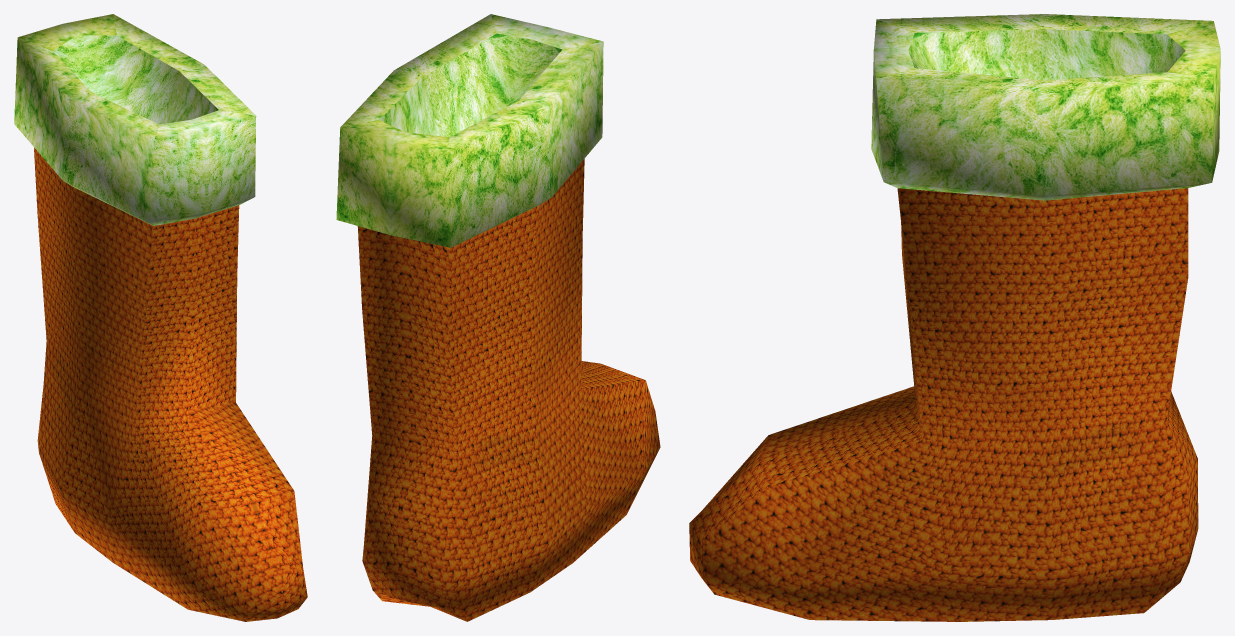
The model's file is TNP0110037.fbx.
3 views of the same model, side by side, from view 1: azimuth 30°, elevation 25°; view 2: azimuth 150°, elevation 25°; view 3: azimuth 270°, elevation 25° (orthographic). The views are drawn at different scales.
Parts seen in each view (by area): view 1: smTNP0110037; view 2: smTNP0110037; view 3: smTNP0110037.
Part boxes in pixels (bbox=[...]): smTNP0110037: bbox=[14, 14, 307, 621]; smTNP0110037: bbox=[336, 14, 660, 621]; smTNP0110037: bbox=[689, 14, 1220, 621].
Bounding box in the file's own units: 11.92 × 35.09 × 31.03.
Materials: 1 (1 with a texture image).
